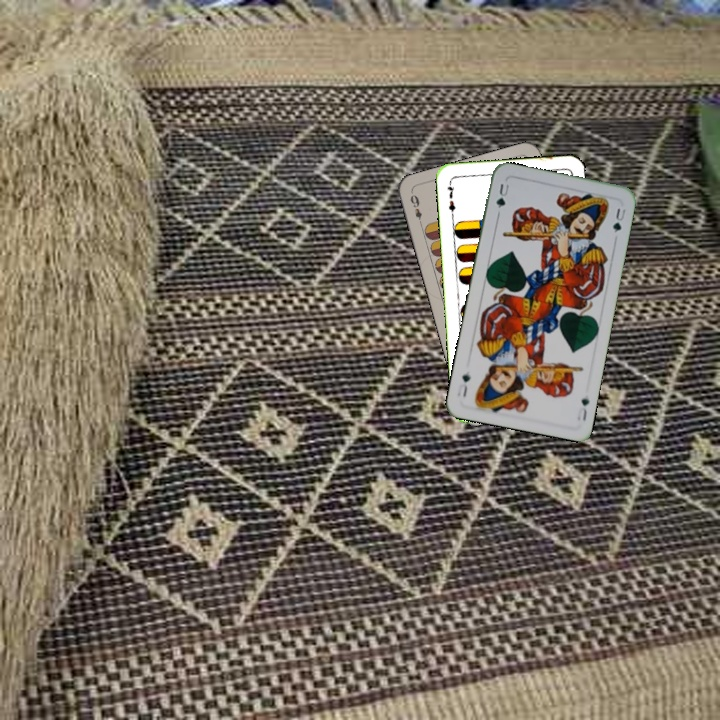E7: (443, 178, 458, 218)
E9: (406, 191, 425, 229)
GU: (492, 180, 512, 211), (573, 394, 592, 424)
